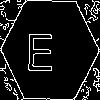E: (25, 25, 55, 71)
